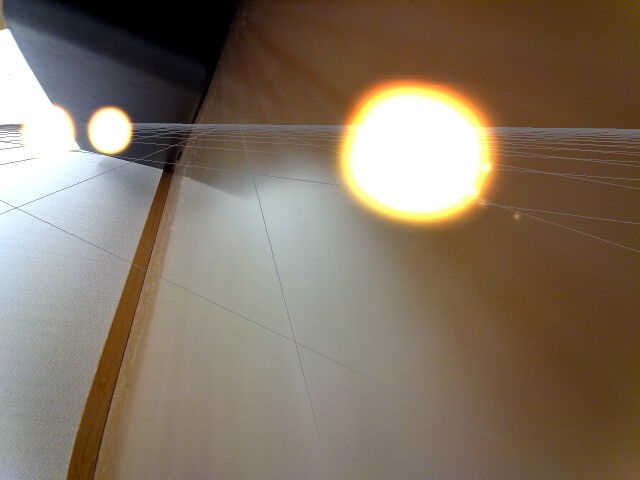firebig: (323, 76, 500, 228)
